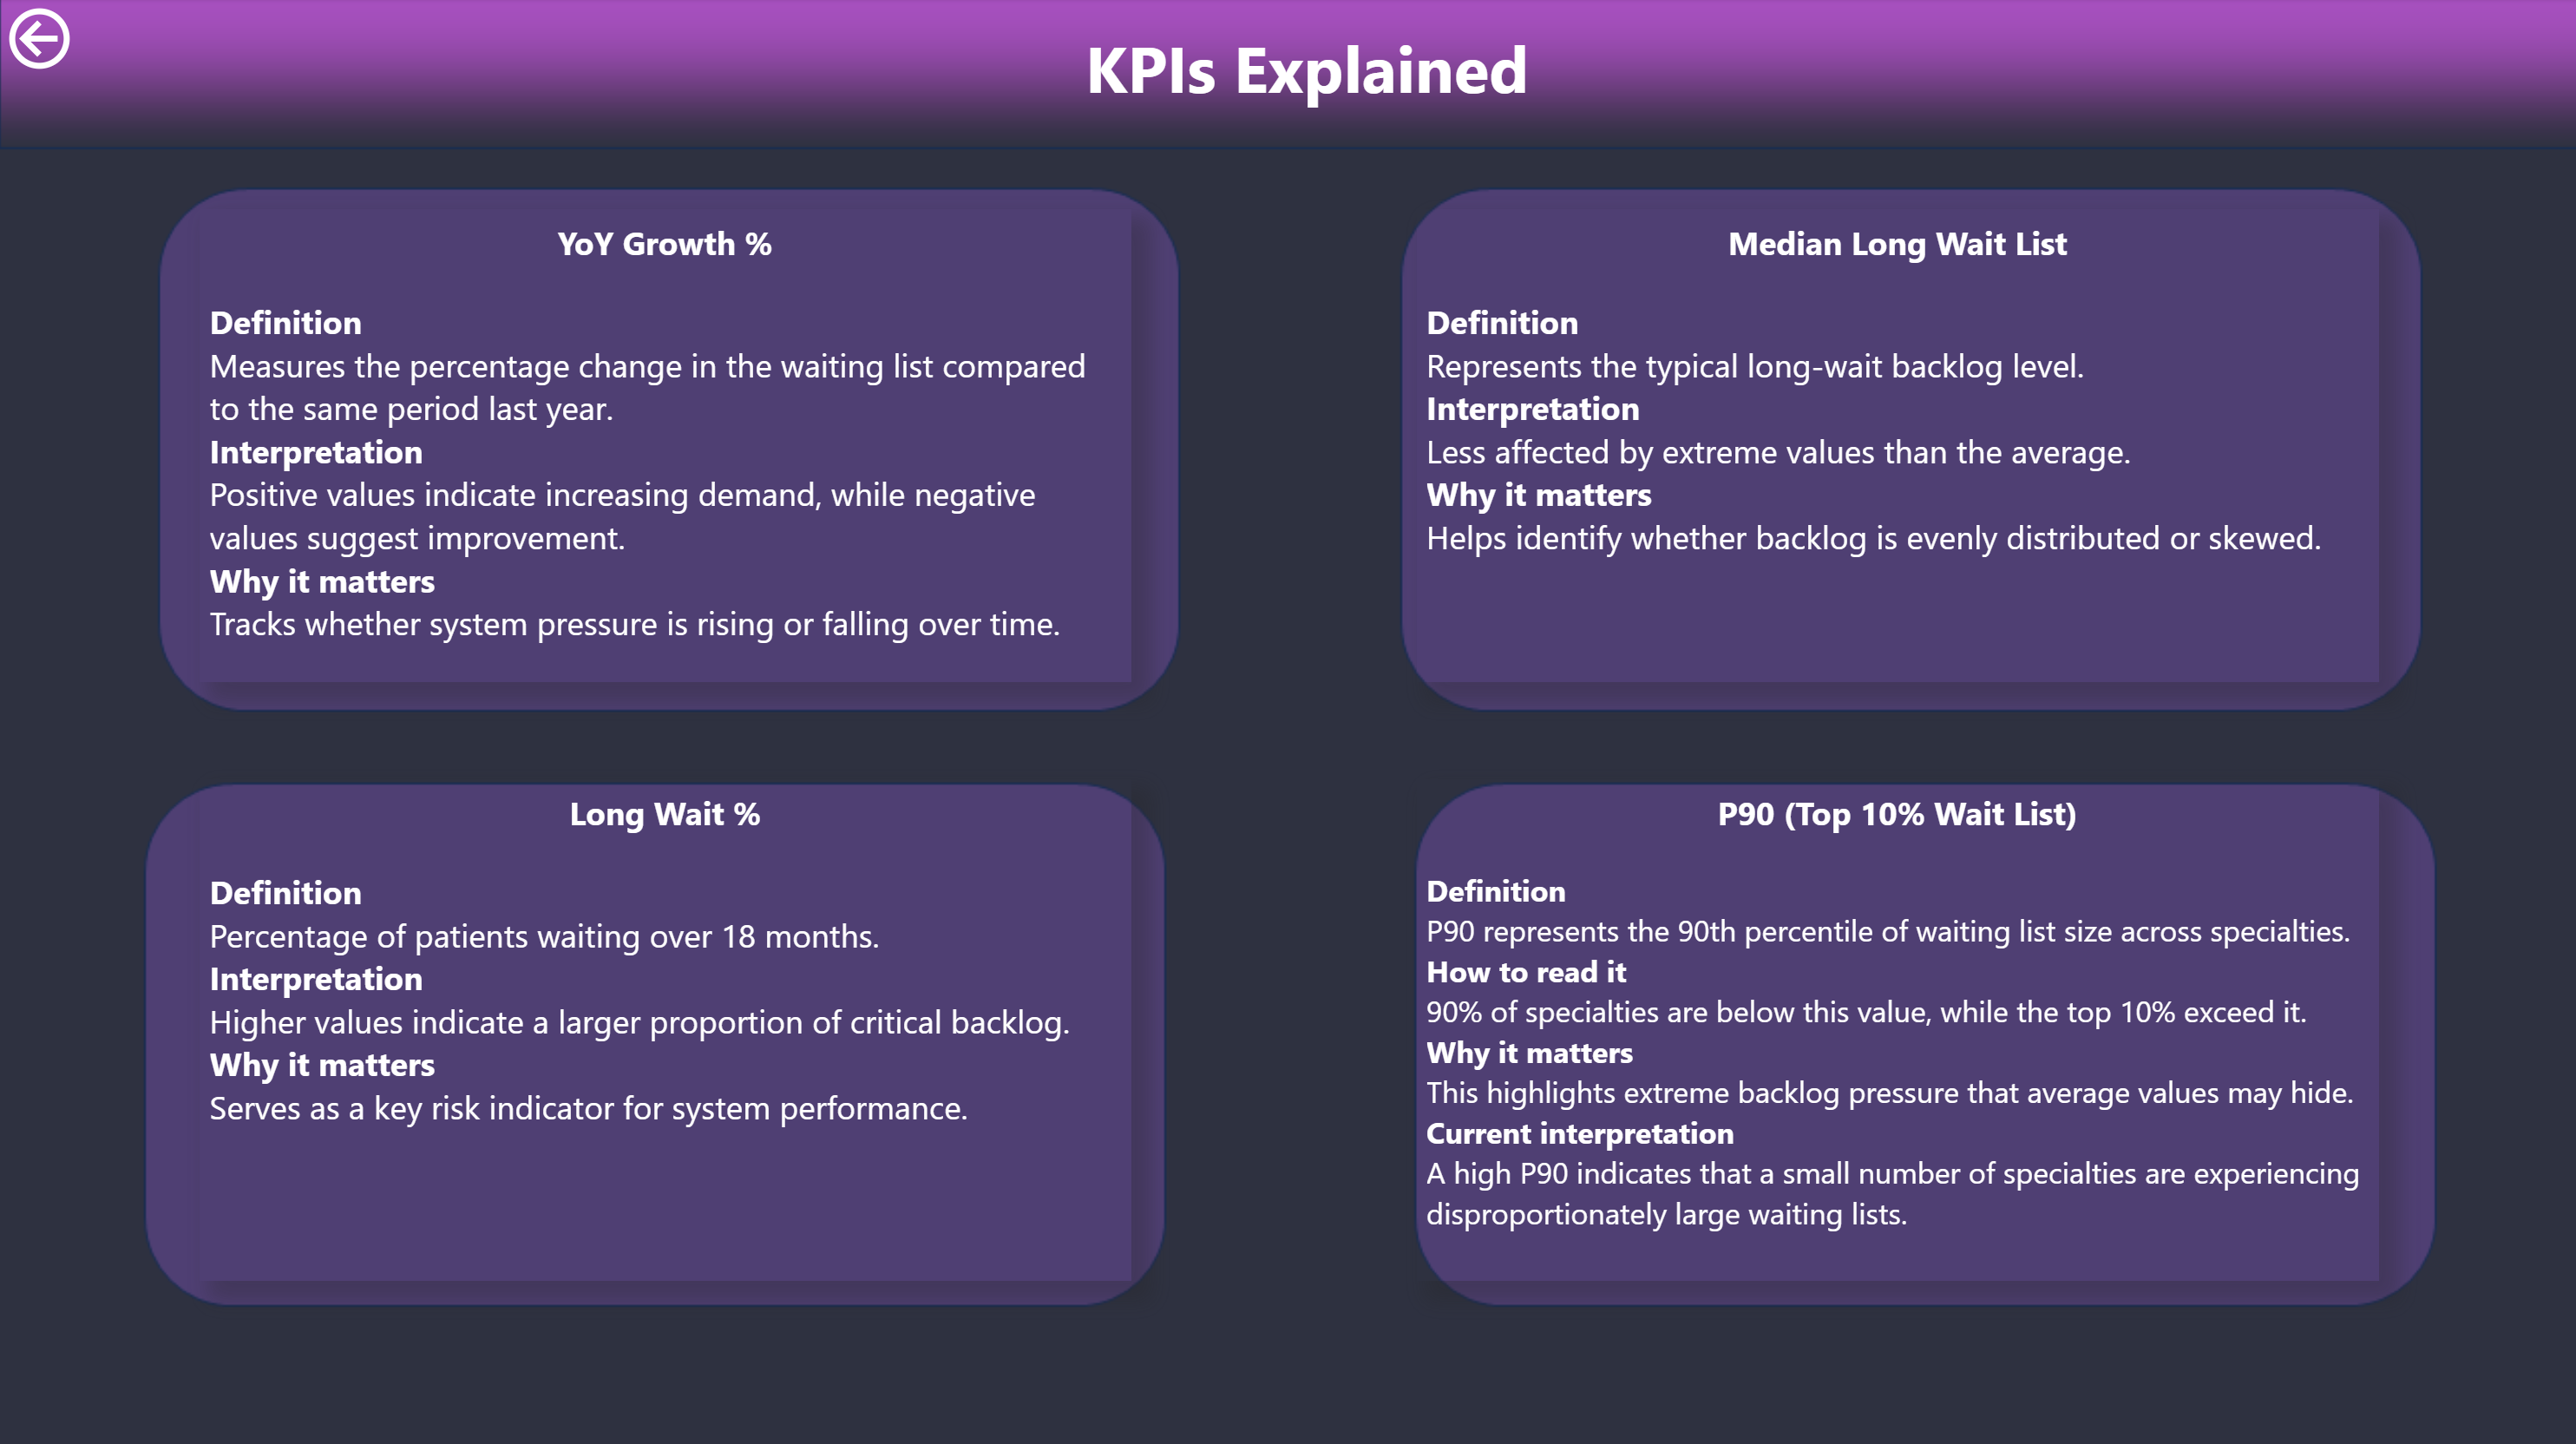

Layout of this report page (visuals, bound fields, positions):
{"tool":"powerbi","page":{"name":"KPIs Explained","canvas":[1280,720],"ordinal":4},"visuals":[{"type":"textbox","box":[99.4,104.4,461.8,234.8],"z":0},{"type":"textbox","box":[703,104.4,477.4,234.8],"z":1000},{"type":"textbox","box":[703,387.1,477.4,248.9],"z":2000},{"type":"textbox","box":[99.4,387.1,461.8,248.9],"z":3000},{"type":"textbox","box":[533.8,7.1,317.3,65.6],"z":4000},{"type":"actionButton","box":[0,0,100,40],"z":5000}]}

Visuals, with their boxes in screenshot pixels (x1, y1, x2, y2), scaled from the page's 1280x720 canvas onto the 2576x1444 screenshot:
textbox: [left=200, top=209, right=1130, bottom=680]
textbox: [left=1415, top=209, right=2376, bottom=680]
textbox: [left=1415, top=777, right=2376, bottom=1276]
textbox: [left=200, top=777, right=1130, bottom=1276]
textbox: [left=1074, top=14, right=1713, bottom=146]
actionButton: [left=0, top=0, right=201, bottom=80]
